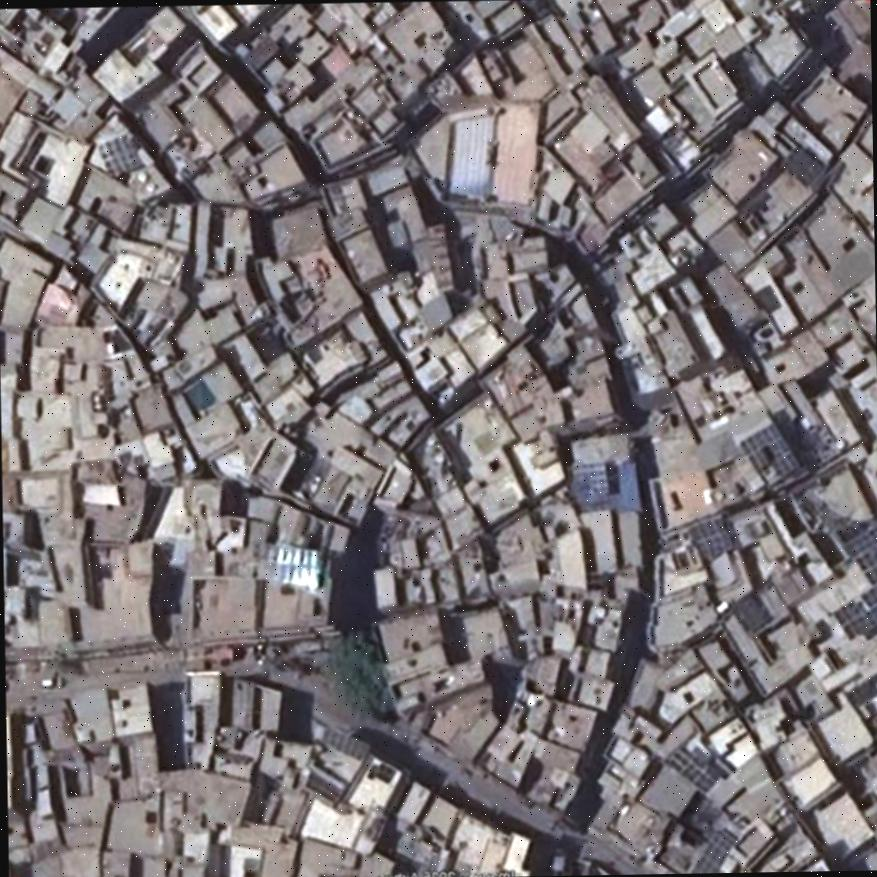Solarpanel: (740, 424, 797, 484), (833, 584, 877, 641), (665, 746, 715, 791), (688, 829, 735, 872), (688, 516, 735, 557), (98, 135, 141, 177), (845, 527, 877, 582)
